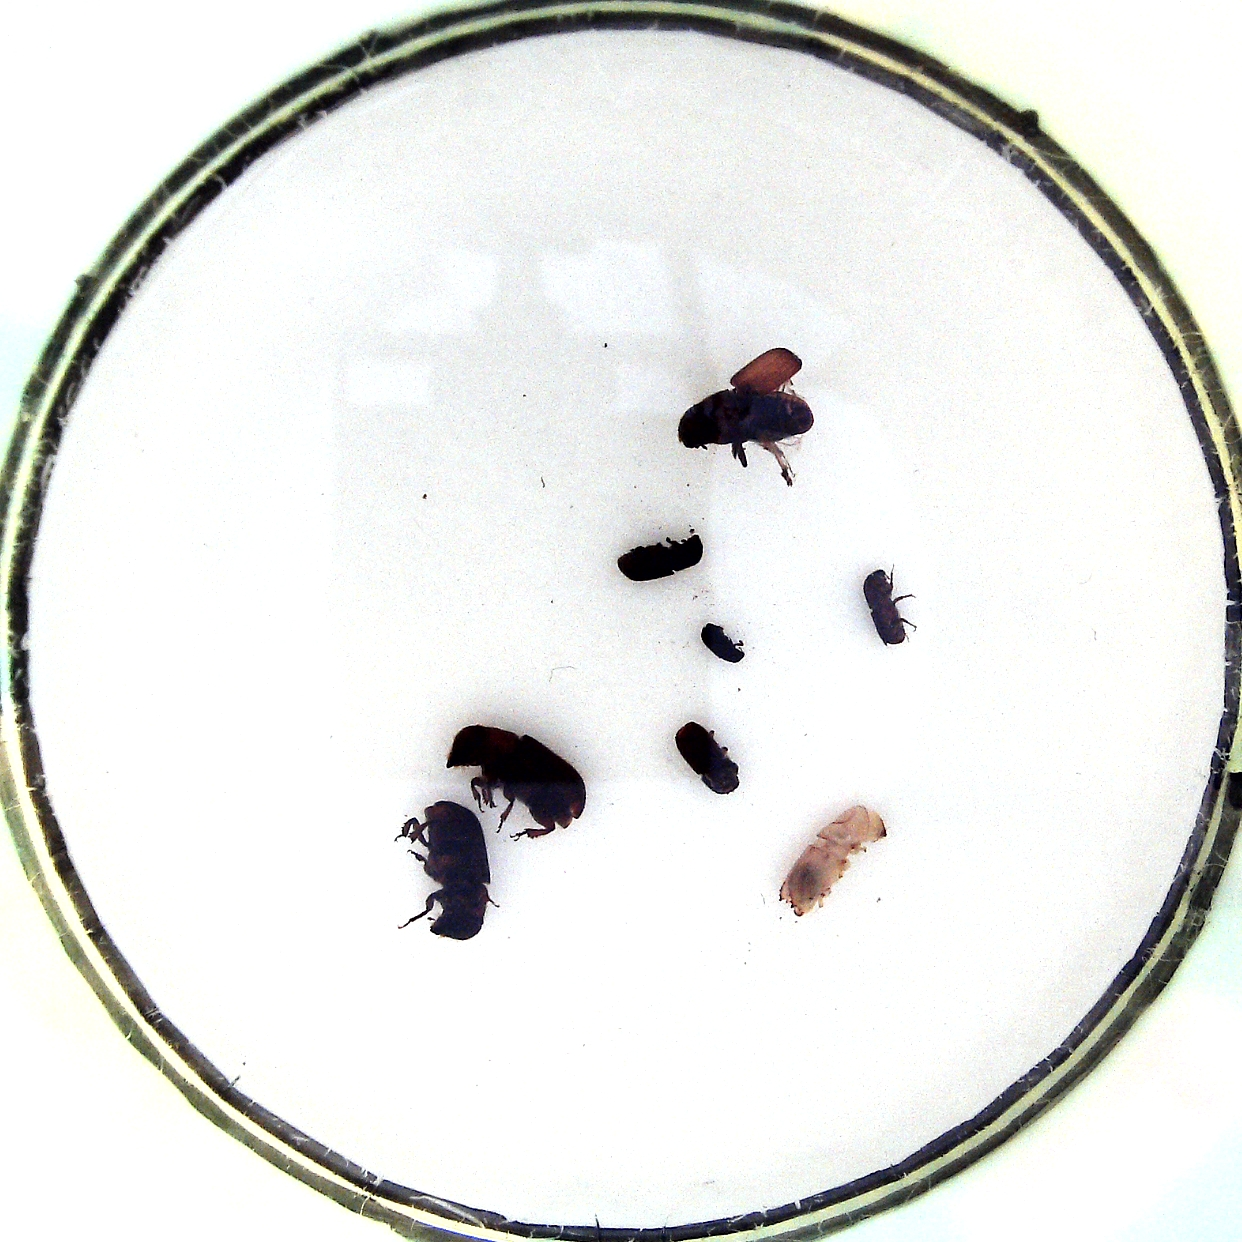Boerner: (776, 800, 886, 919)
Leconte: (674, 347, 817, 486), (442, 717, 586, 835), (391, 800, 489, 942)
Linnaeus: (673, 721, 742, 796)
acuminatus: (860, 562, 919, 647)
armandi: (615, 532, 707, 583)
coleoptera: (699, 621, 750, 663)
